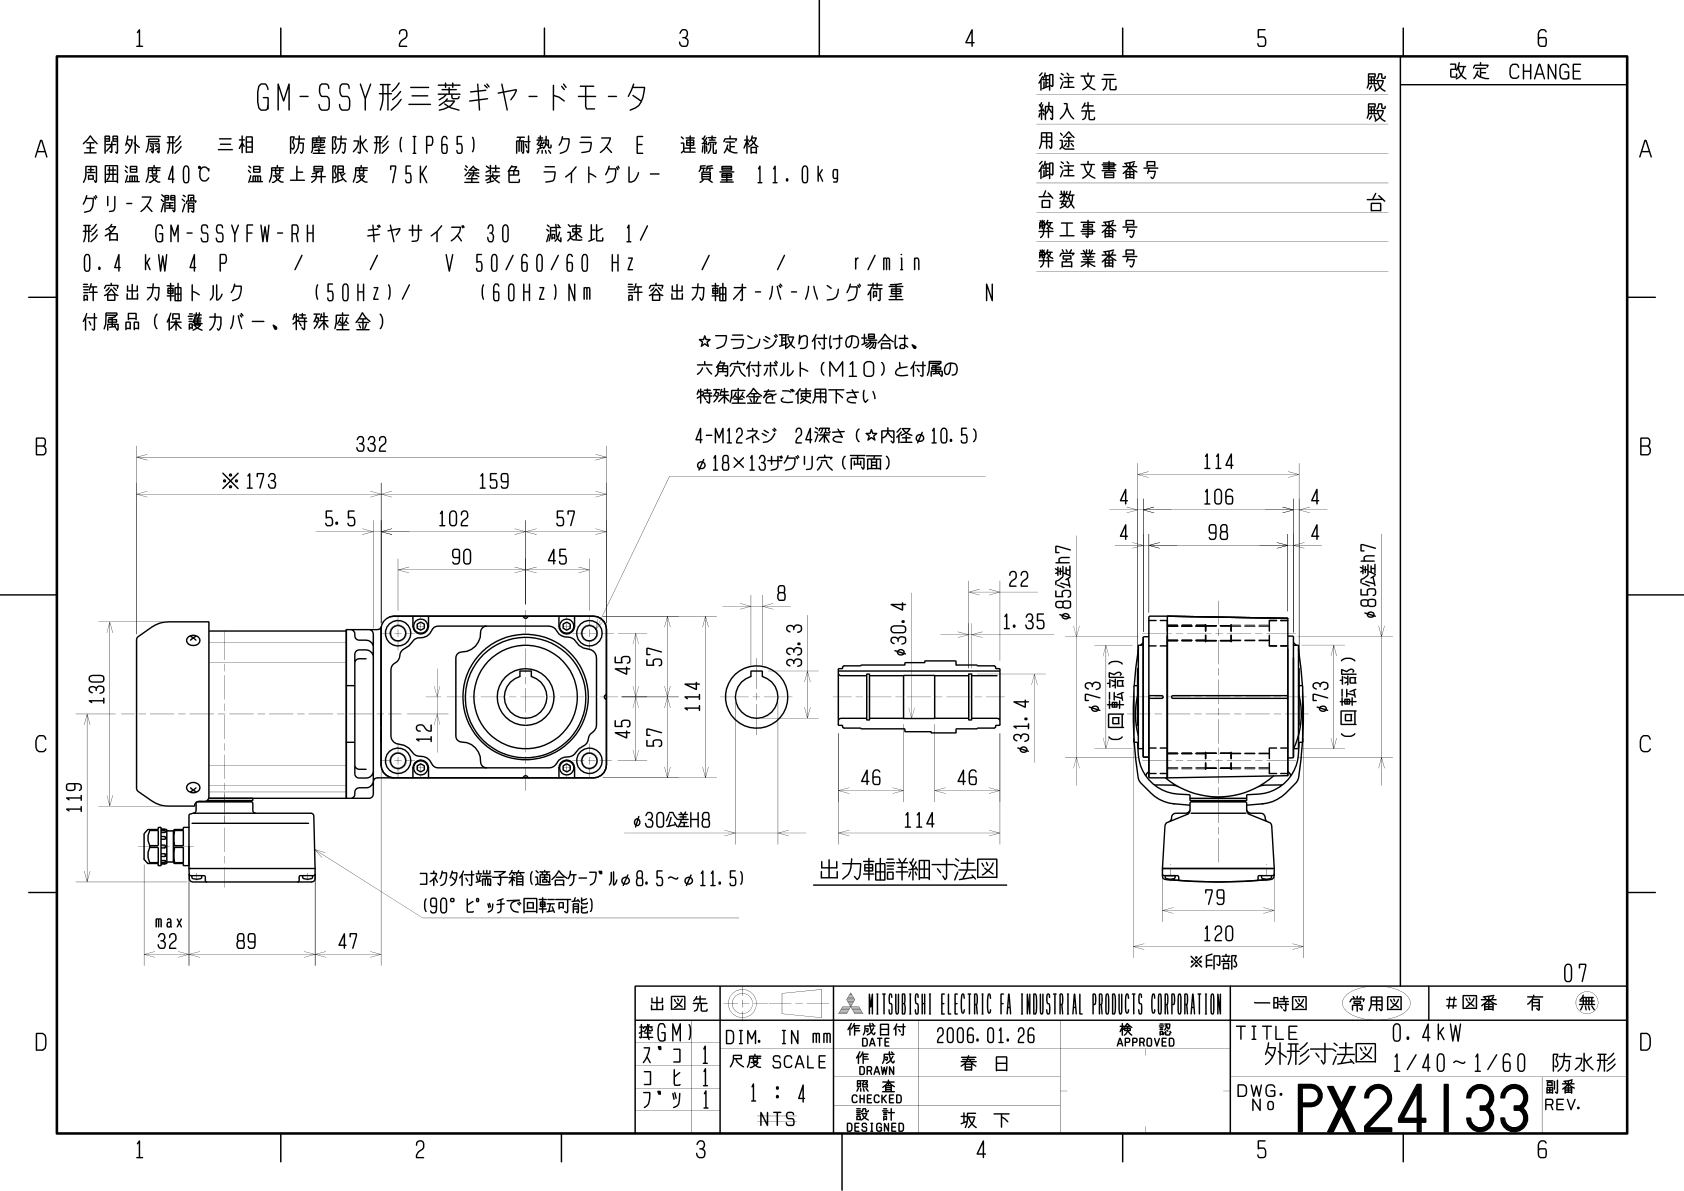GM_SSY_IP65_三相: (15, 13, 1684, 1191)
